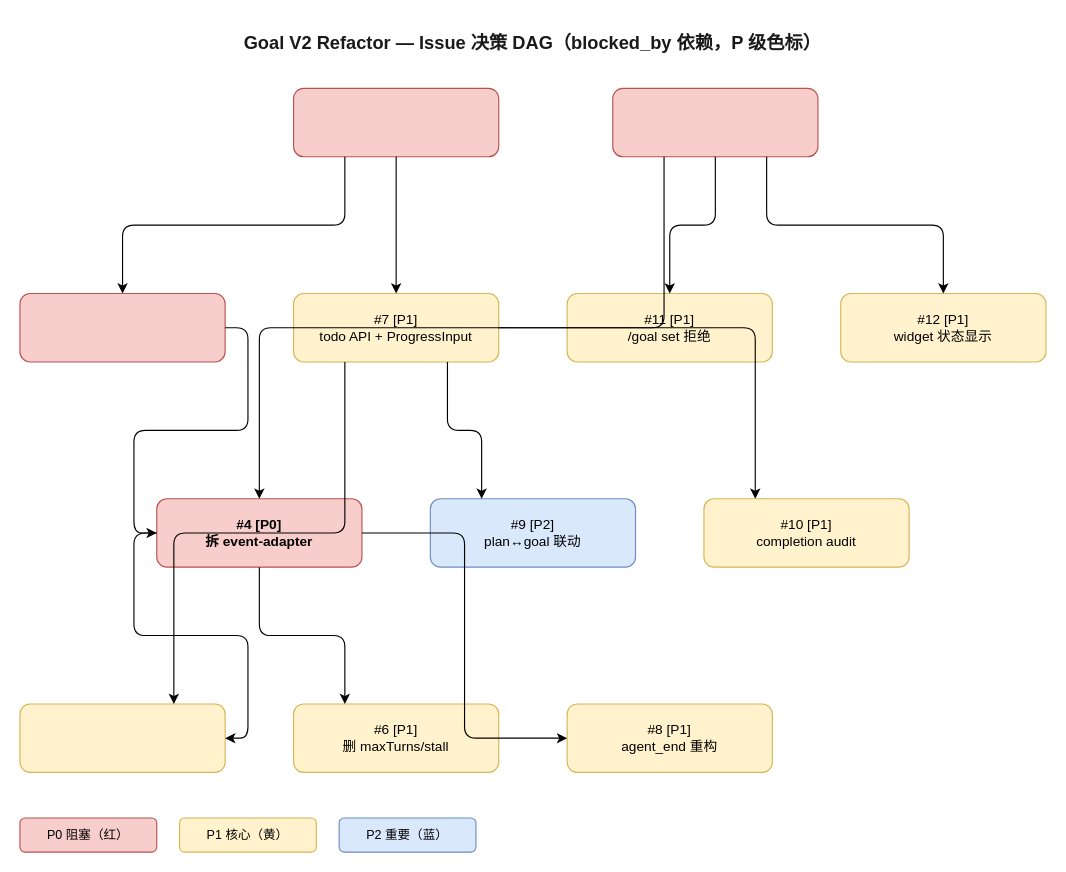
The diagram is 1066 pixels wide and 872 high, and some of its shapes have lost their labels. Here are the shapes that lost their labels. From the top down, the centre of each, then its label:
At (395,122): "#1 [P0] 删 goal_manager + task".
At (715,122): "#2 [P0] paused + VALID_TRANSITIONS".
At (122,327): "#3 [P0] 新建 goal_control".
At (122,737): "#5 [P1] budget 单一检查点".
